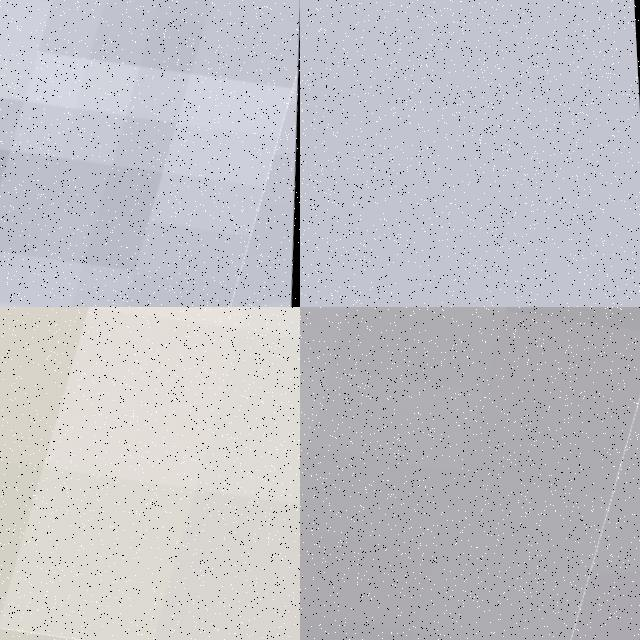0: (0, 0, 300, 307)
drone: (300, 307, 640, 640), (0, 307, 300, 640)
